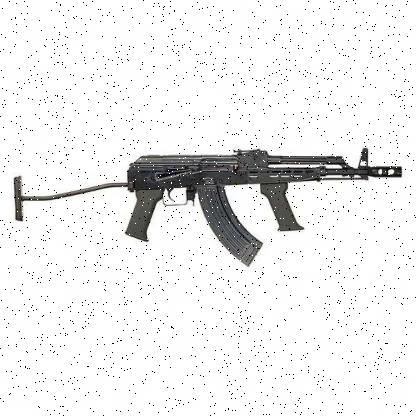rifle: (15, 114, 407, 273)
